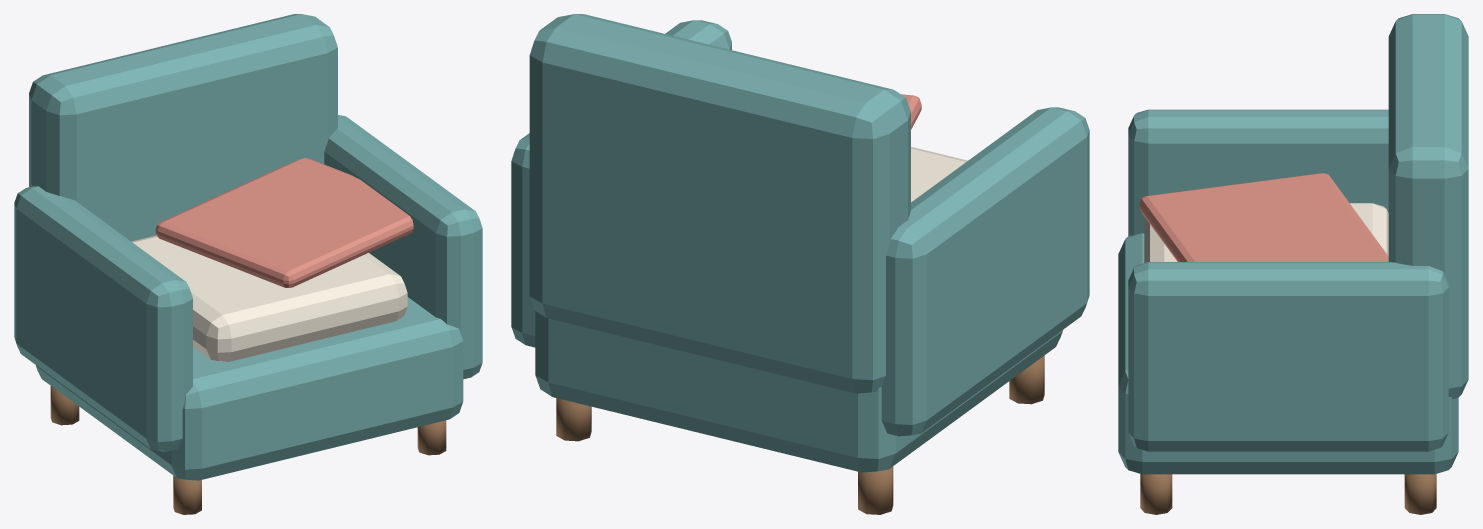
Rendered from Armchair.fbx.
The picture shows the model from 3 angles, left to right: view 1: azimuth 30°, elevation 25°; view 2: azimuth 150°, elevation 25°; view 3: azimuth 270°, elevation 25°; orthographic projection. The views are drawn at different scales.
Visible parts, largest first — view 1: Armchair; view 2: Armchair; view 3: Armchair.
Boxes of the visible parts, box(x1,y1,x2,y2) form: Armchair: box(14, 14, 482, 514); Armchair: box(511, 14, 1089, 514); Armchair: box(1118, 14, 1468, 514).
Bounding box in the file's own units: 104 × 100 × 87.5.
